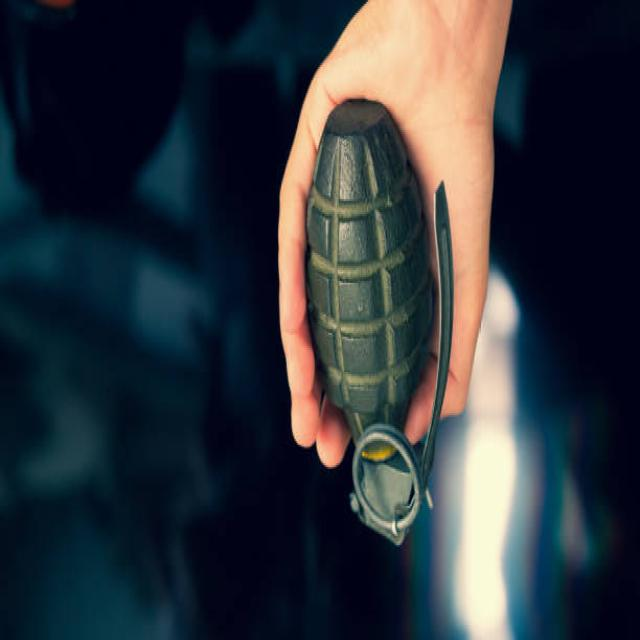grenade: (302, 98, 459, 557)
